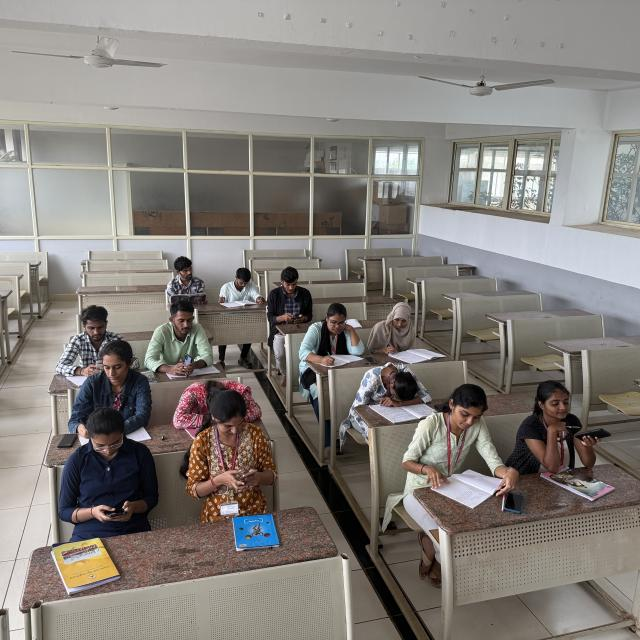Reading: (399, 386, 509, 501), (162, 255, 213, 308)
Sleeping: (171, 374, 265, 428), (354, 358, 432, 410)
Using Phone: (57, 413, 159, 539), (186, 395, 284, 508), (522, 371, 611, 468), (149, 301, 220, 375), (263, 263, 316, 328)
Writing: (301, 302, 363, 370), (372, 298, 439, 358), (214, 266, 267, 312)
